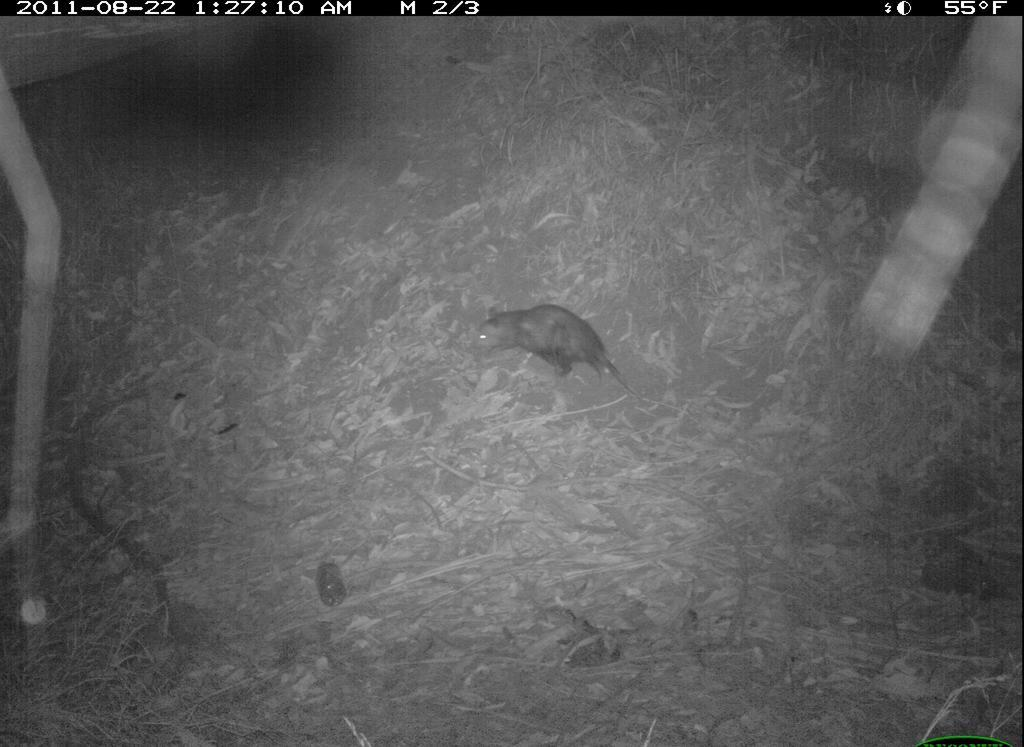opossum: (461, 274, 656, 409)
